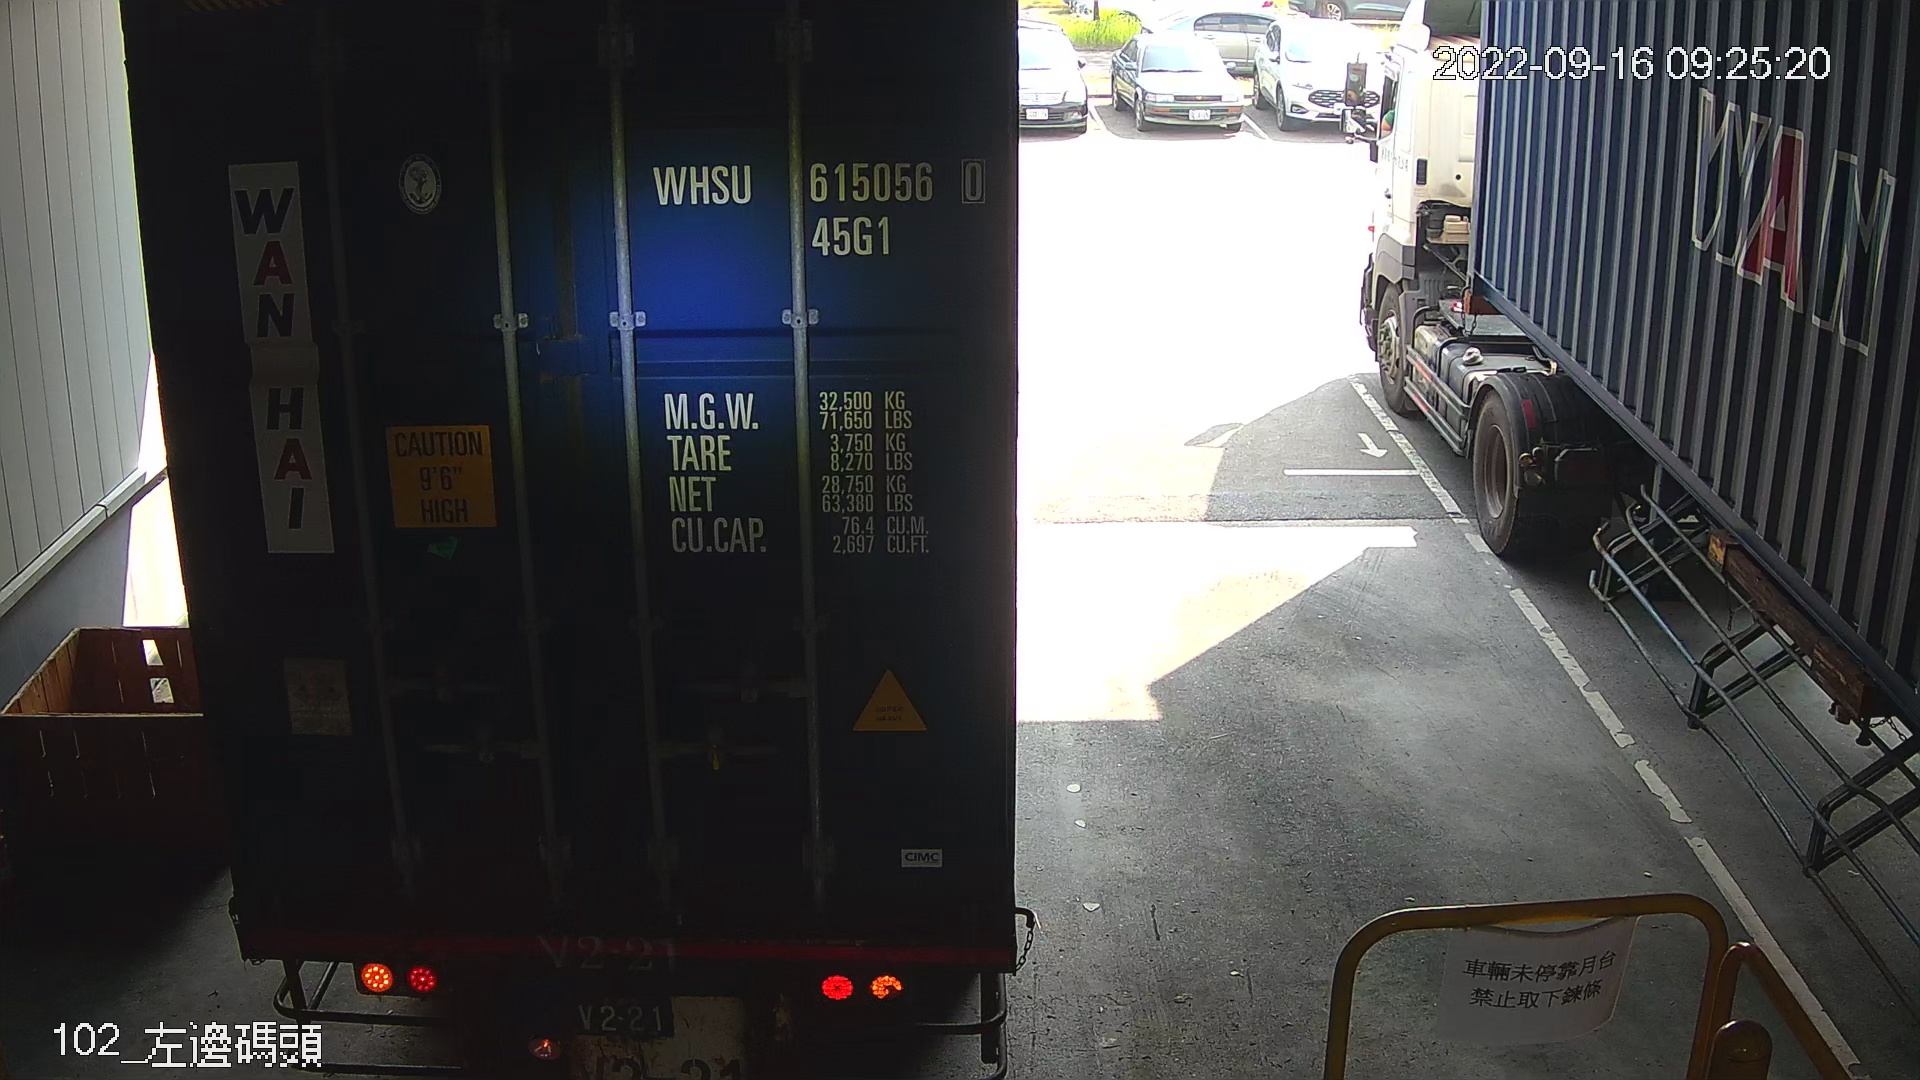container: (637, 144, 996, 266)
